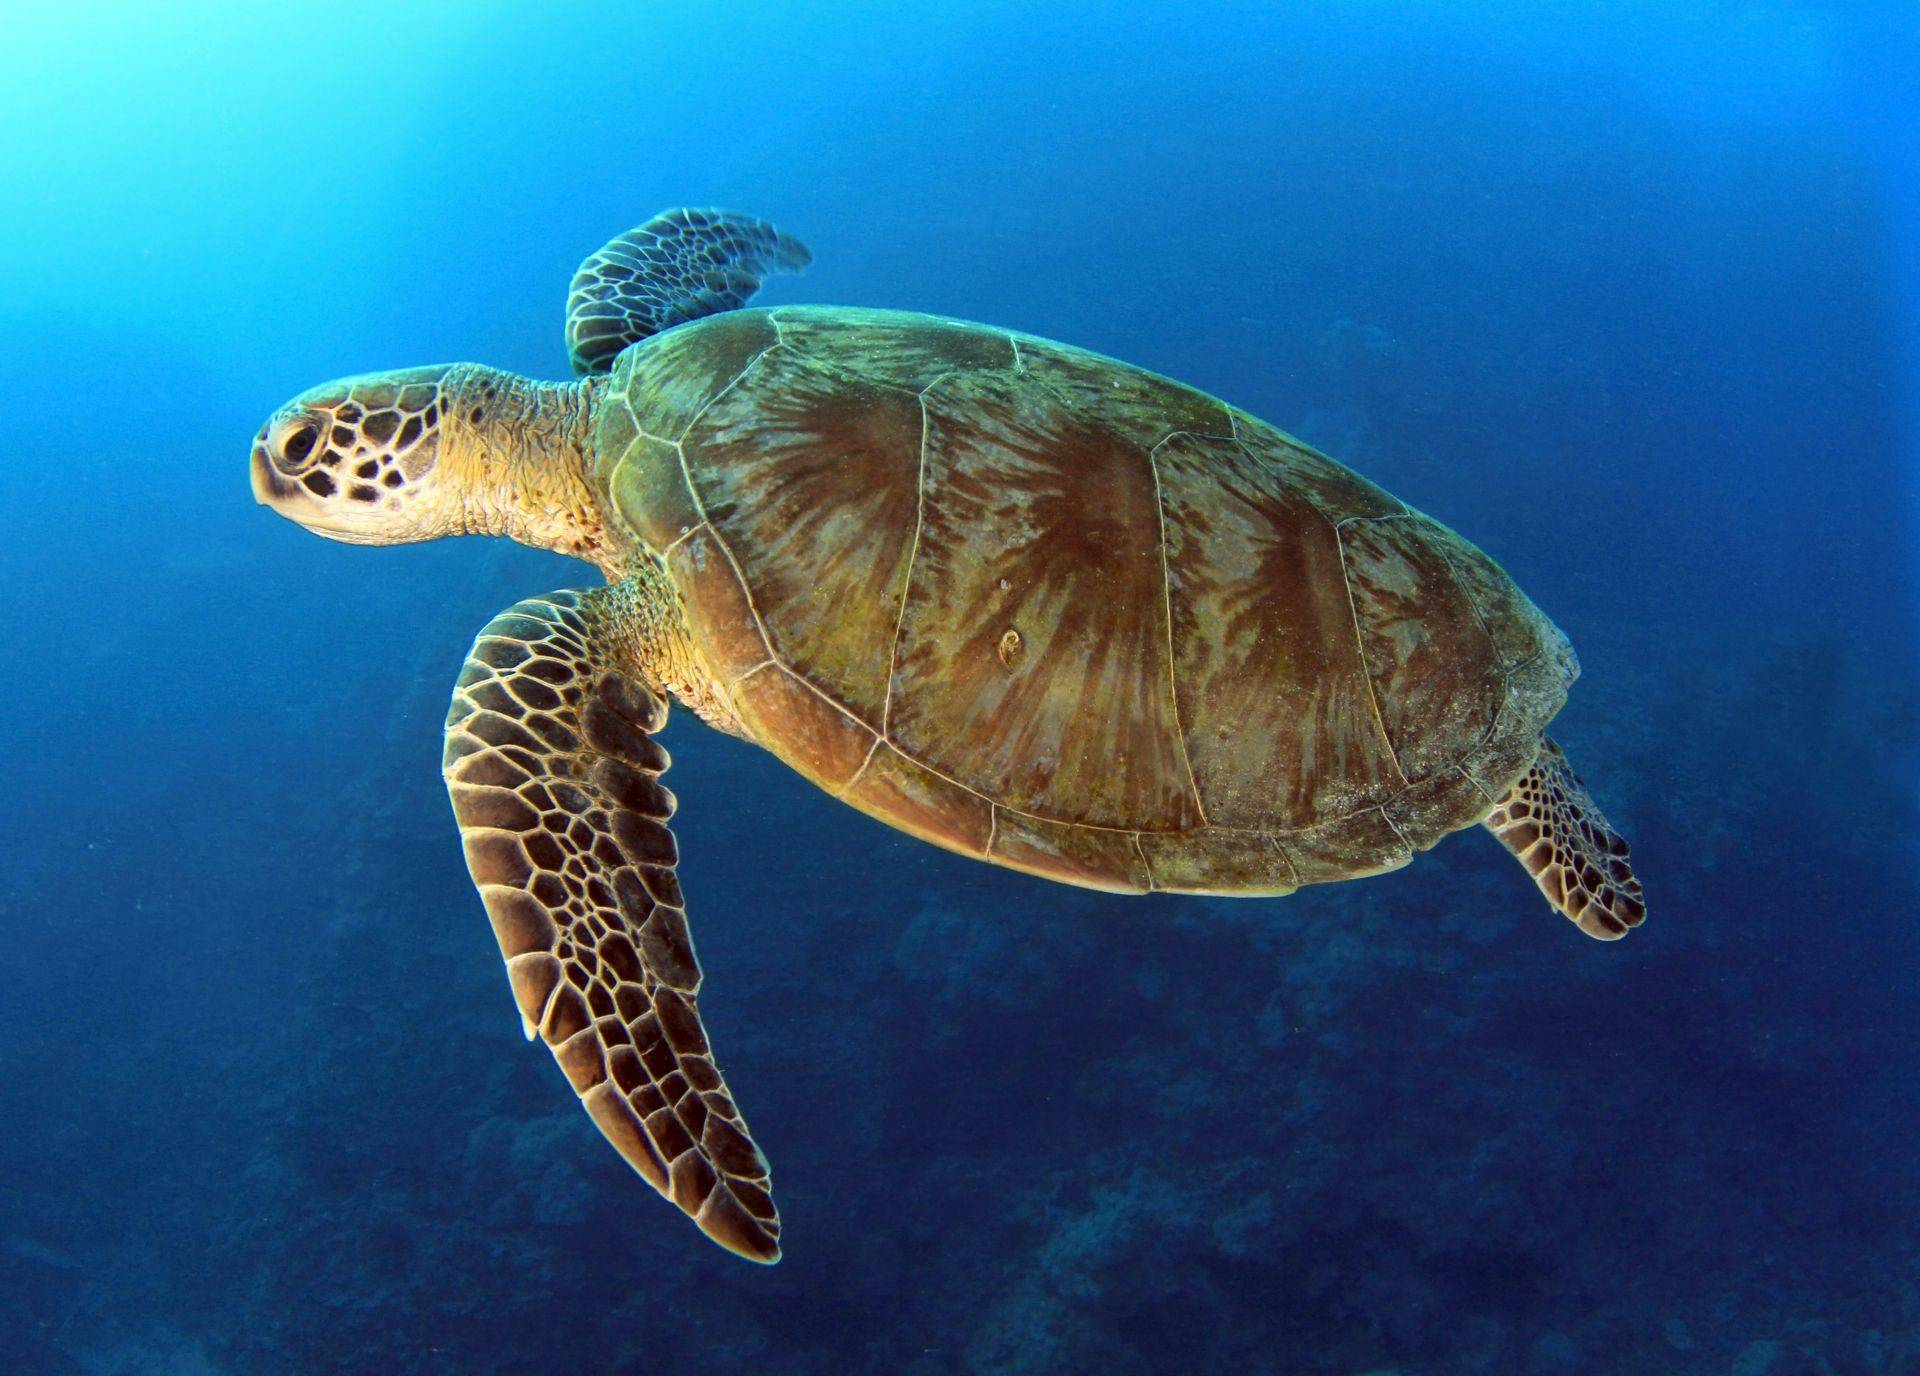eye: (266, 415, 330, 469)
mouth: (252, 494, 409, 554)
